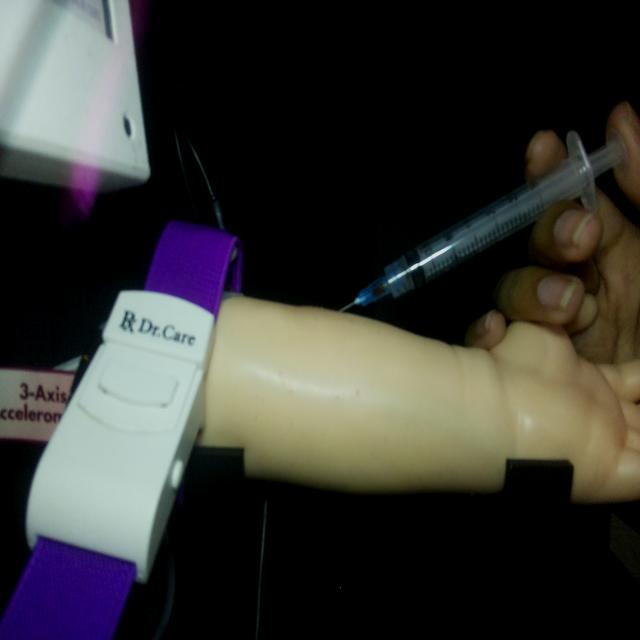22 degrees: (337, 124, 628, 315)
